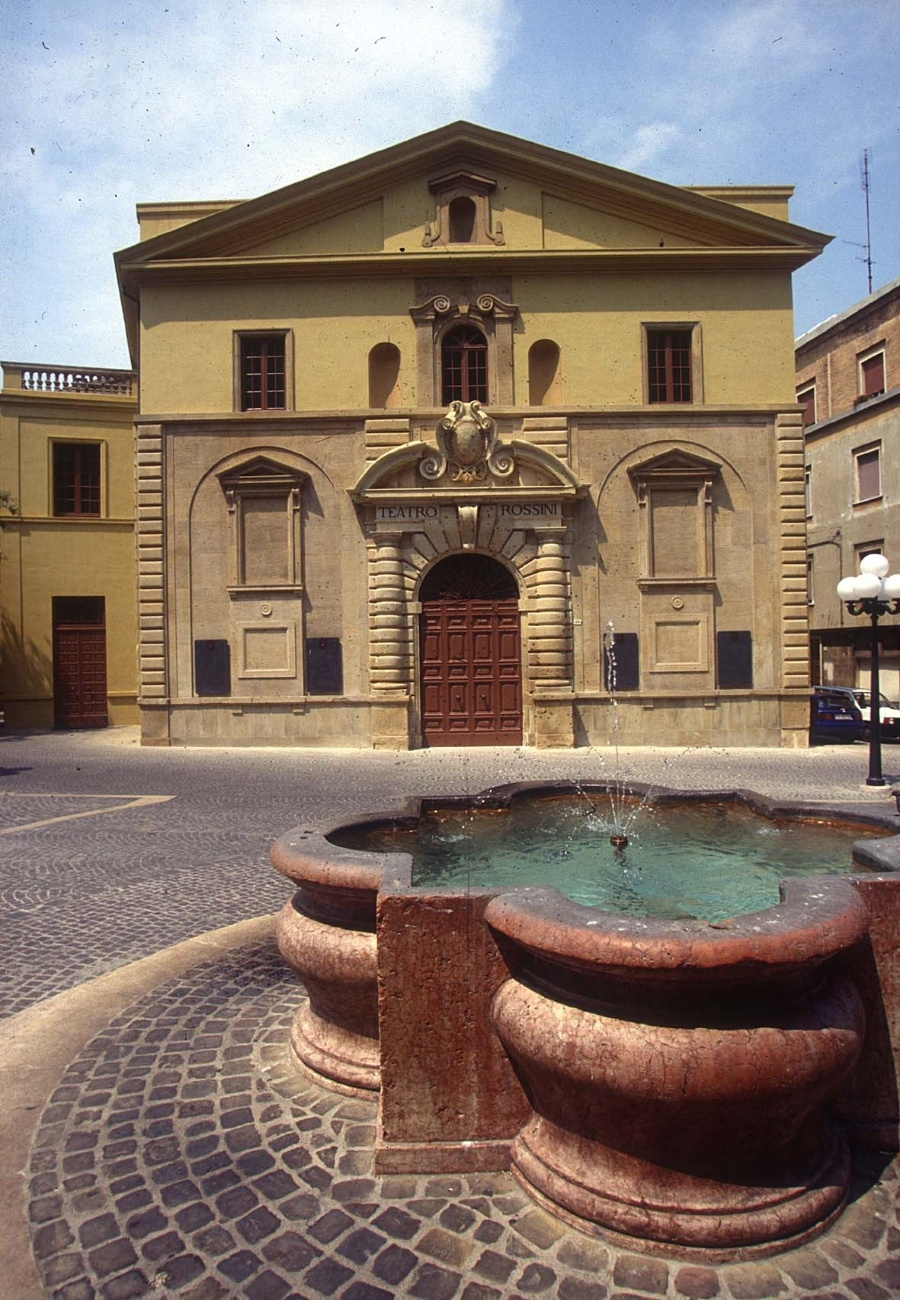Teatro Rossini: (112, 117, 835, 757)
